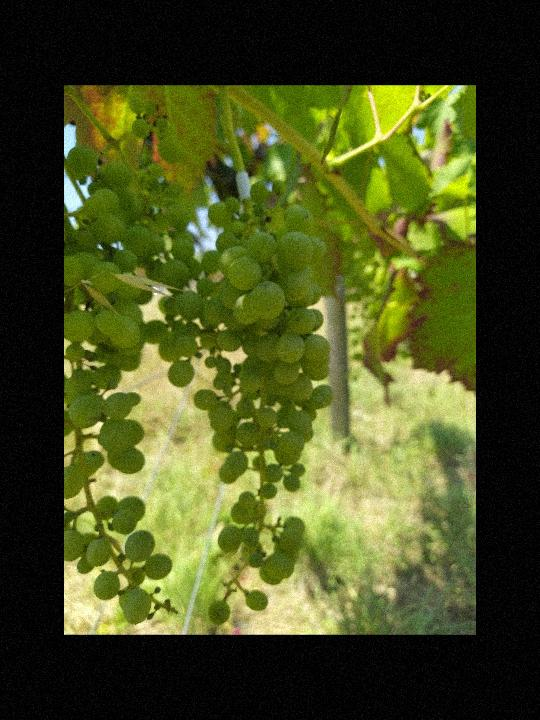grape: (144, 179, 335, 625)
